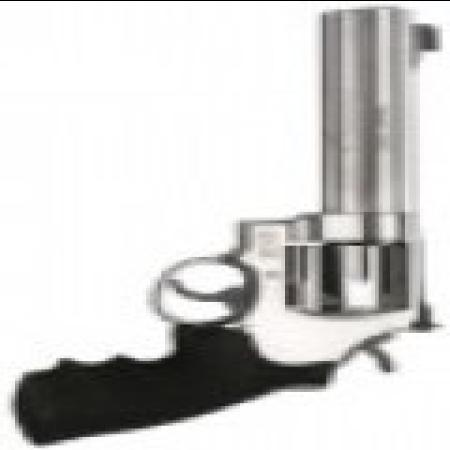Pistol: (27, 17, 438, 441)
